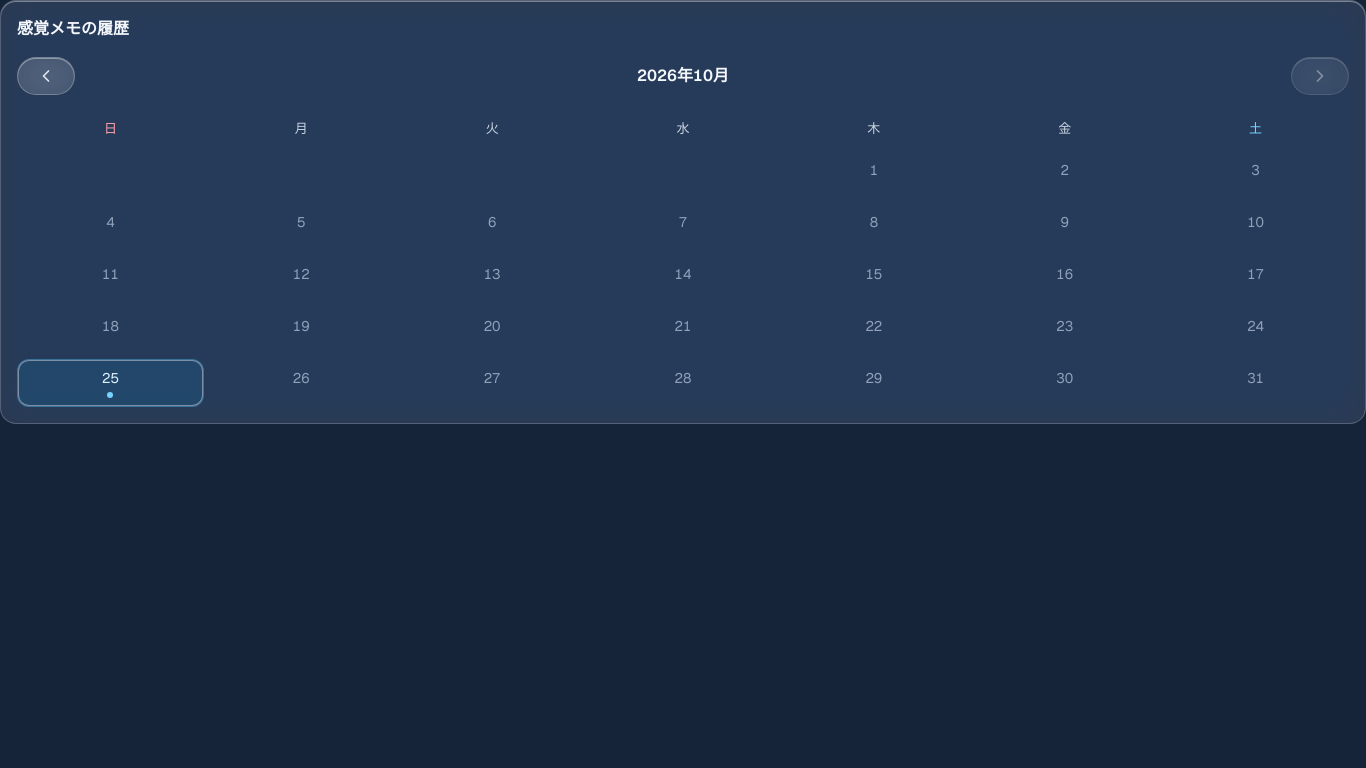
Test case: 書いた日にマークが付き、タップすると詳細を開いて閉じられる
This screenshot has width=1366, height=768.
Expected: the text "リズムよく走れた" is not shown
Expected: the button named "2026年10月24日、感覚メモなし" is disabled, [1162, 307, 1349, 355]
Click the button named "2026年10月25日、感覚メモあり".
click(110, 383)  # box [17, 359, 204, 407]
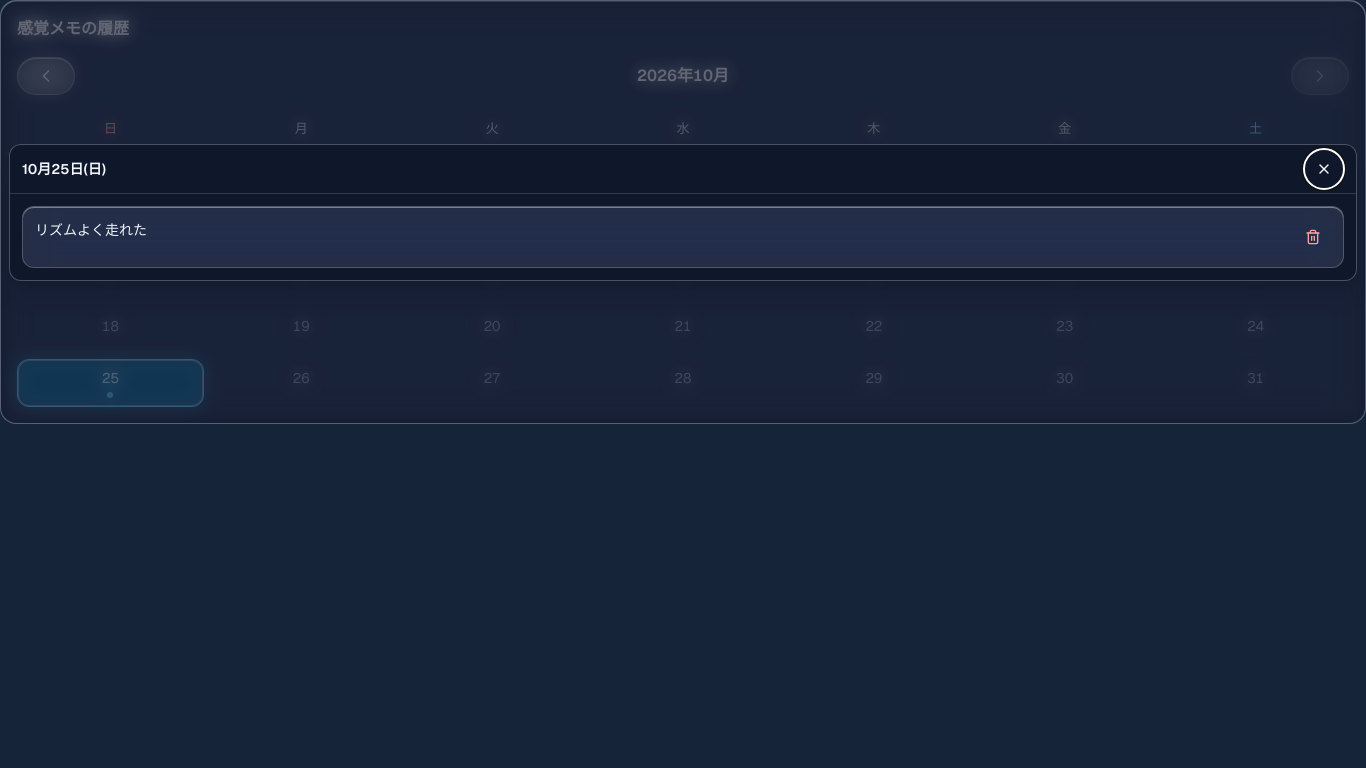
Expected: the dialog shows "リズムよく走れた", [35, 220, 147, 238]
Press Escape in the button named "詳細を閉じる", box [1304, 148, 1344, 188]
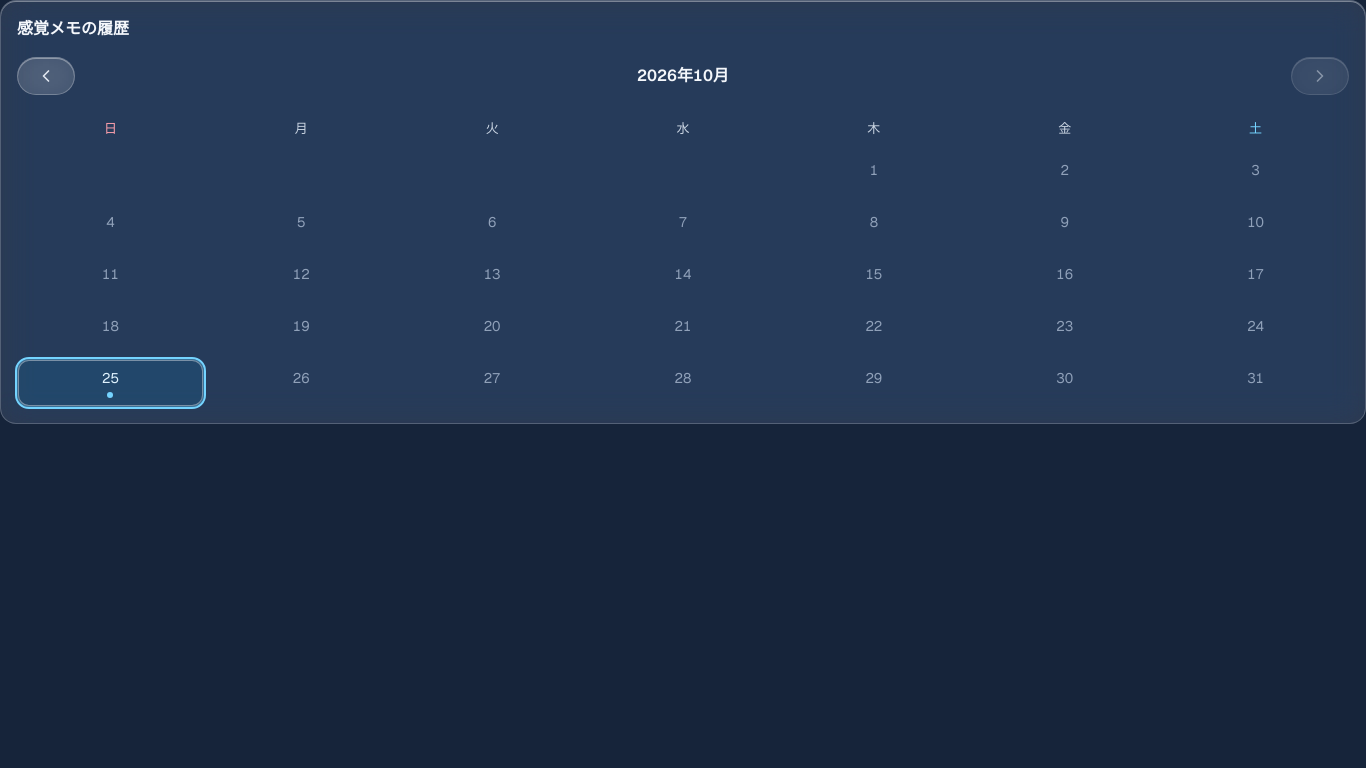
Expected: the dialog is gone
Click the button named "2026年10月25日、感覚メモあり".
click(110, 383)  # box [17, 359, 204, 407]
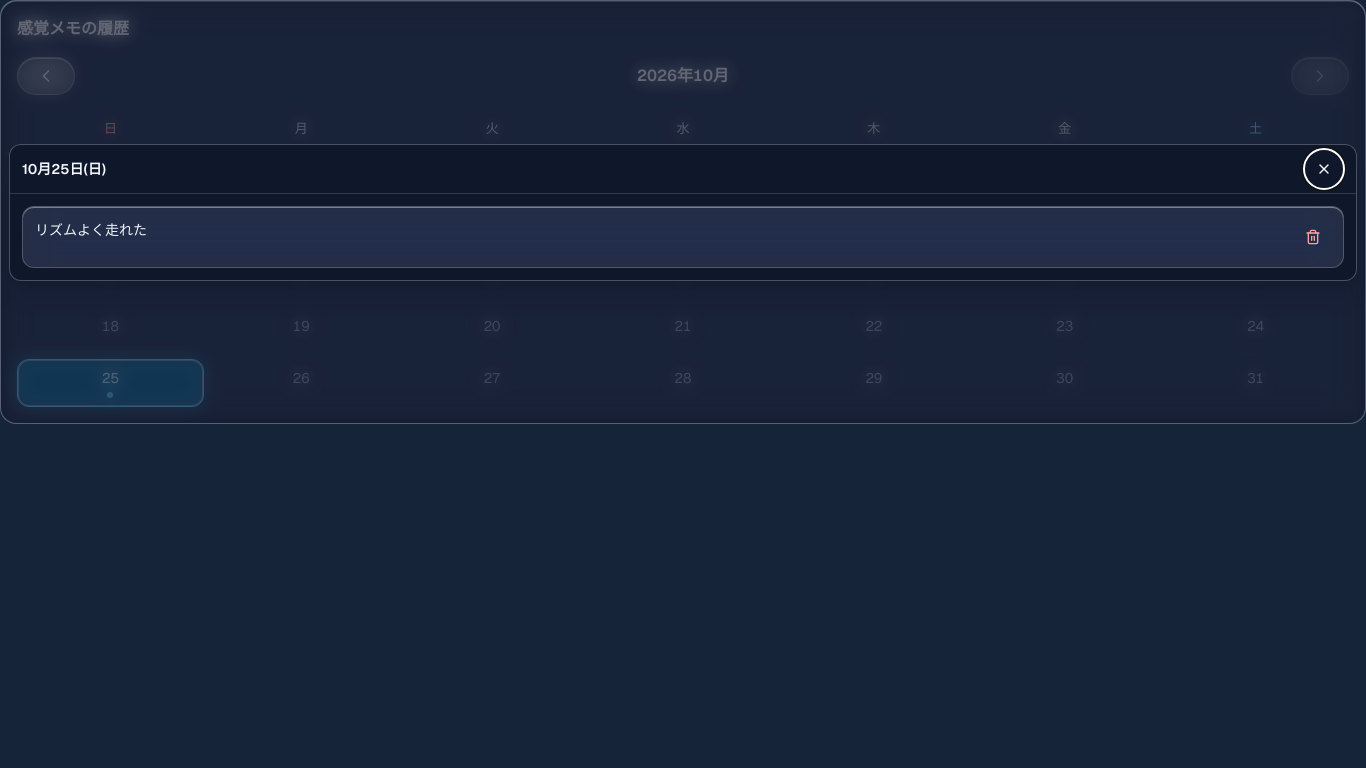
Click the button named "詳細を閉じる".
click(1324, 168)  # box [1304, 148, 1344, 188]
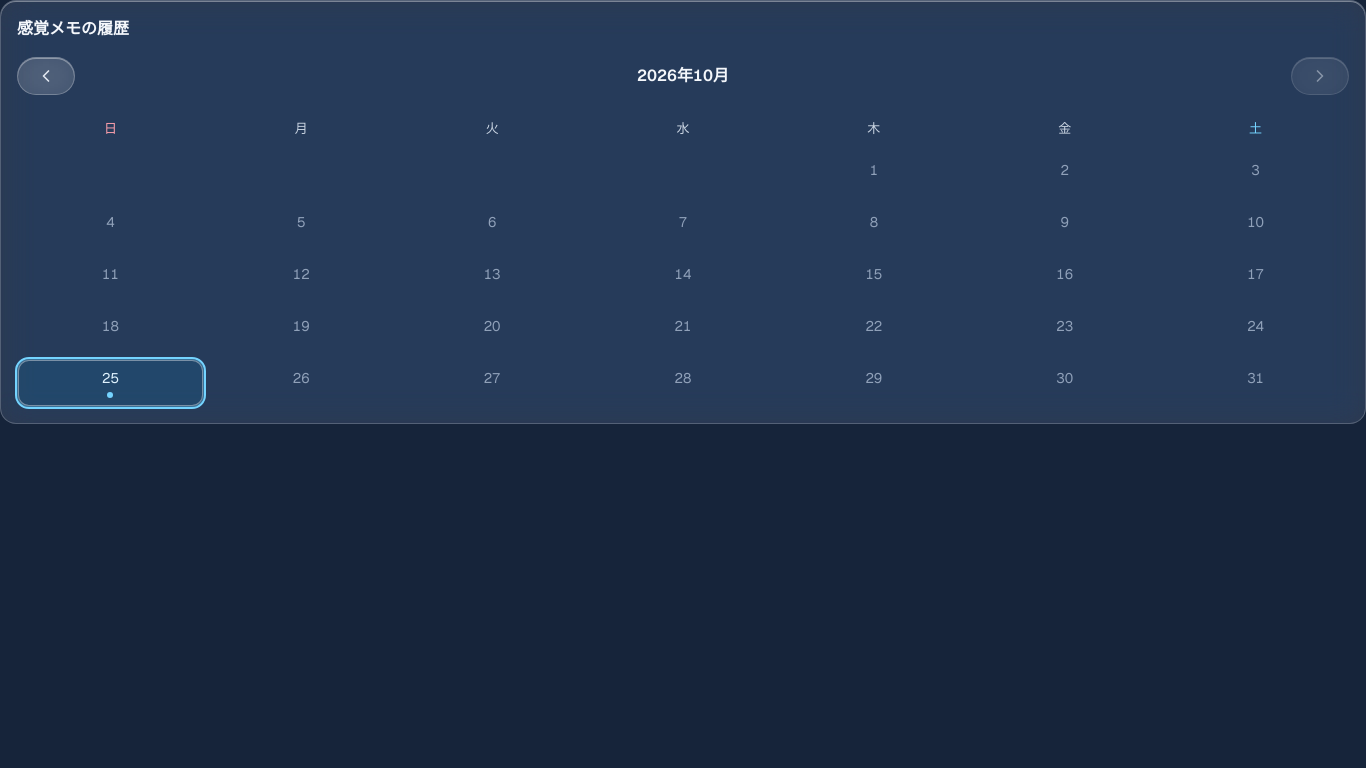
Expected: the text "リズムよく走れた" is gone
